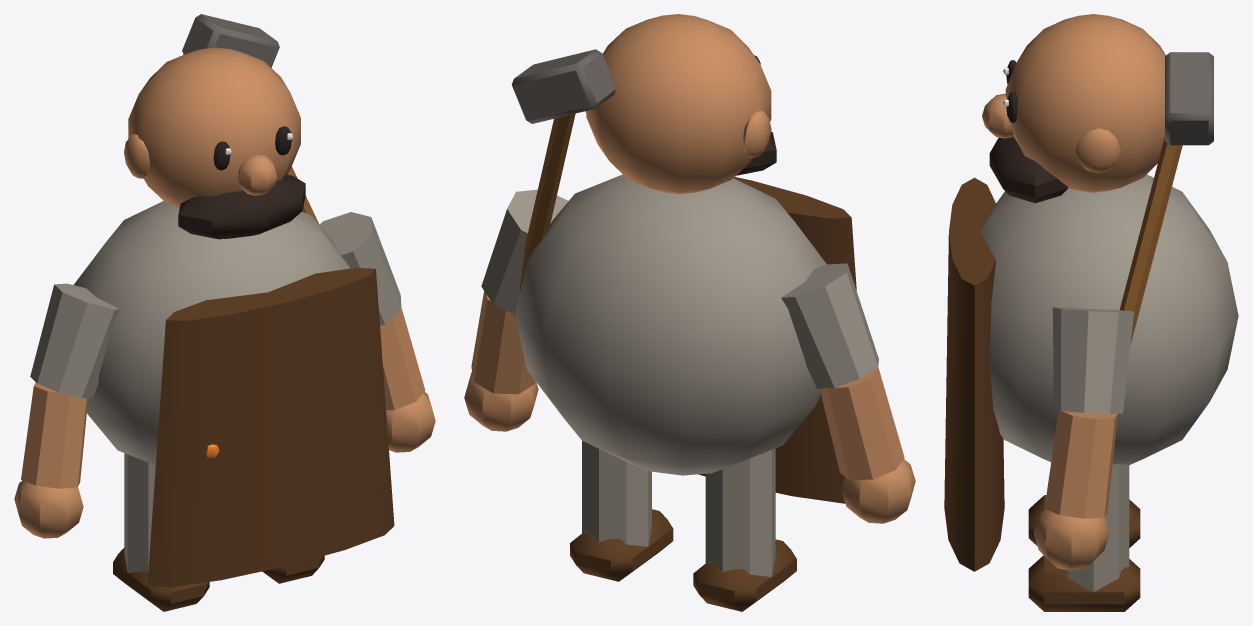
The model's file is CH_Cust_08_Demirci.fbx.
3 renders of one model, left to right at view 1: azimuth 30°, elevation 25°; view 2: azimuth 150°, elevation 25°; view 3: azimuth 270°, elevation 25°, orthographic. The views are drawn at different scales.
Visible parts, largest first — view 1: CH_Cust_08_Demirci; view 2: CH_Cust_08_Demirci; view 3: CH_Cust_08_Demirci.
Part boxes in pixels (box(x1,y1,x2,y2)): CH_Cust_08_Demirci: box(14, 14, 435, 611); CH_Cust_08_Demirci: box(464, 14, 915, 611); CH_Cust_08_Demirci: box(944, 14, 1238, 611).
Size of the model in its own units: 1.13 by 1.36 by 0.659.
1 material, 1 textured.
